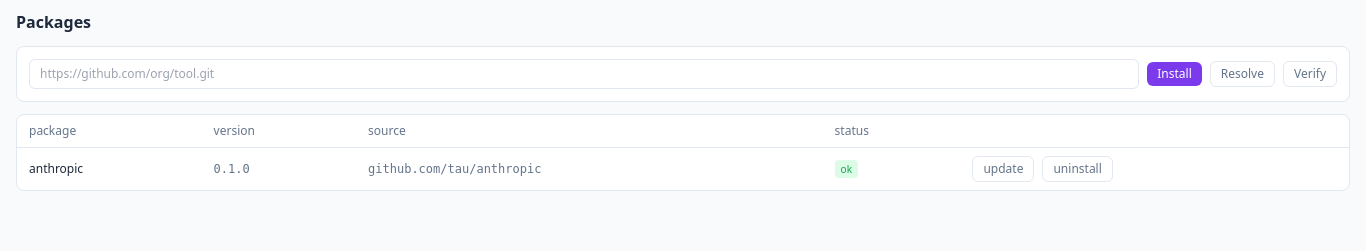
Test: PackagesPage › lists packages and installs a new one
Expected: the text "anthropic" is shown, 17,148 -> 202,190
Type "https://github.com/acme/cooltool.git" into the field named "install git url" at {"x": 584, "y": 74}, box 29,59 -> 1139,89
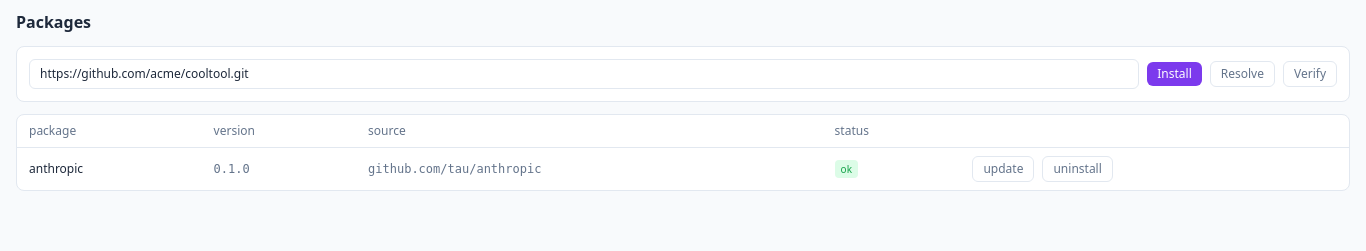
Click the button "Install" at {"x": 1175, "y": 74}, box 1147,62 -> 1202,86
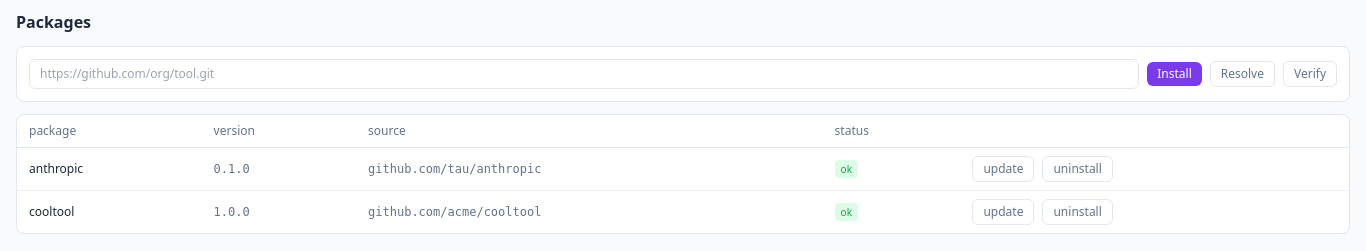
Expected: the text "cooltool" is shown, 17,190 -> 202,233
